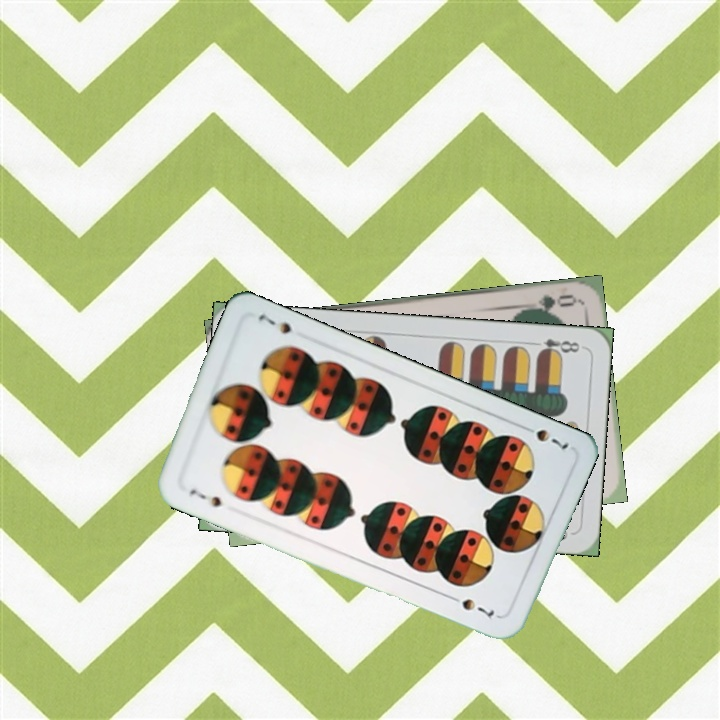E8: (526, 335, 583, 359)
GO: (520, 290, 578, 315)
S7: (517, 421, 571, 452), (185, 485, 224, 510)
